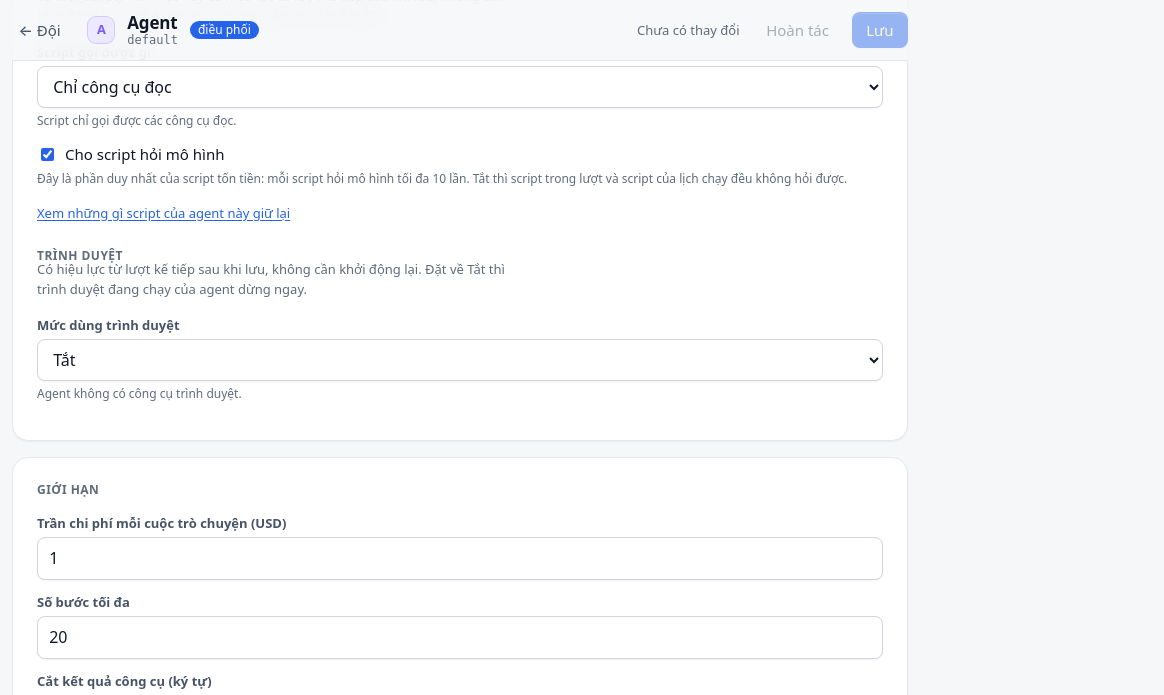
Test: whether an agent has a browser › says one line for the level chosen, as the description of the select
(page scrolled)
Select "Đọc" in the dropdown labelled "Mức dùng trình duyệt" at {"x": 460, "y": 360}, box [37,339,883,381]
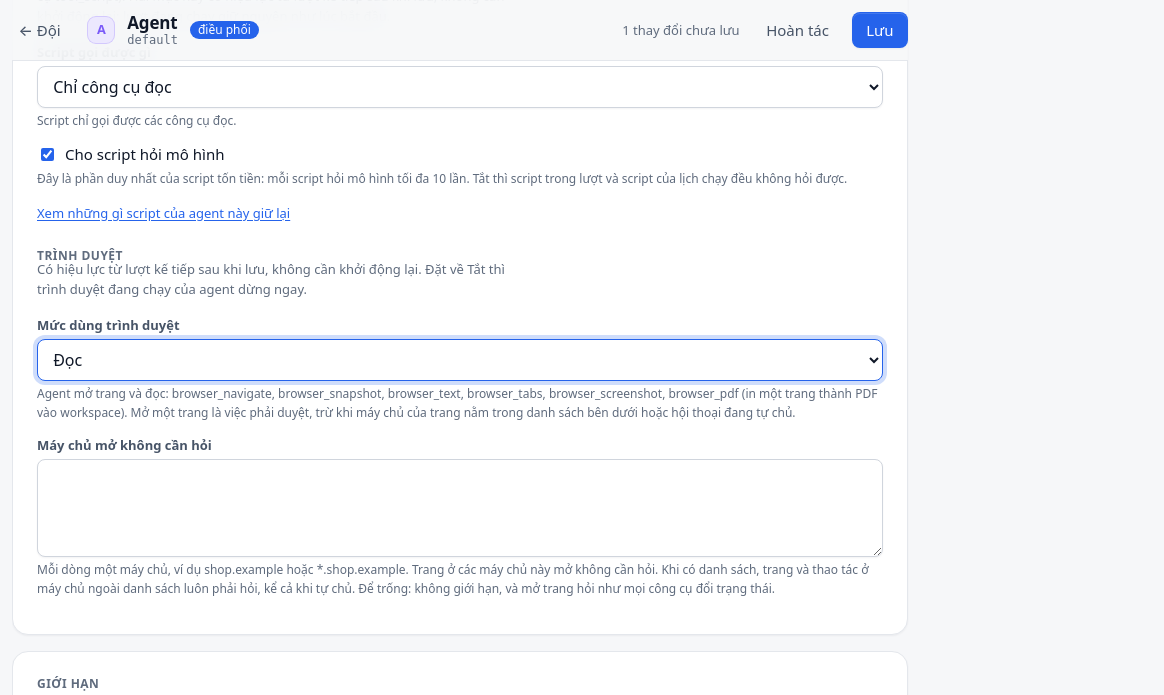
Expected: the text "Agent không có công cụ trình duyệt." is gone
Select "Thao tác" in the dropdown labelled "Mức dùng trình duyệt" at {"x": 460, "y": 360}, box [37,339,883,381]
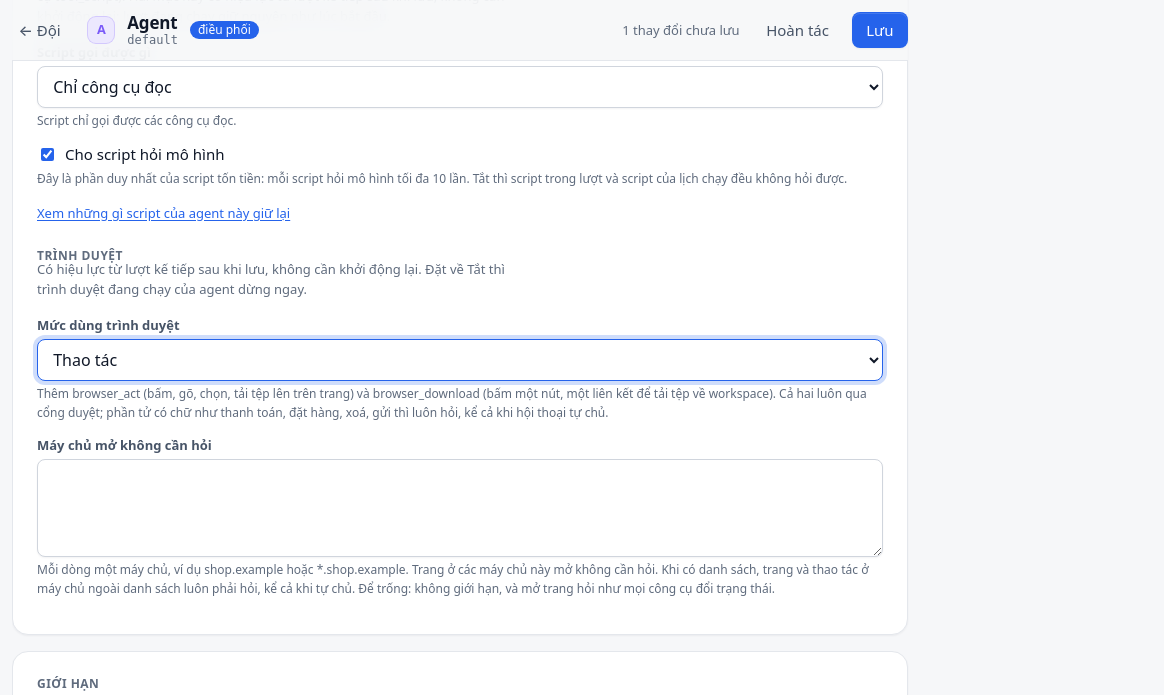
Expected: the text "Agent mở trang và đọc: browser_navigate, browser_snapshot, browser_text, browser_tabs, browser_screenshot, browser_pdf (" is gone
